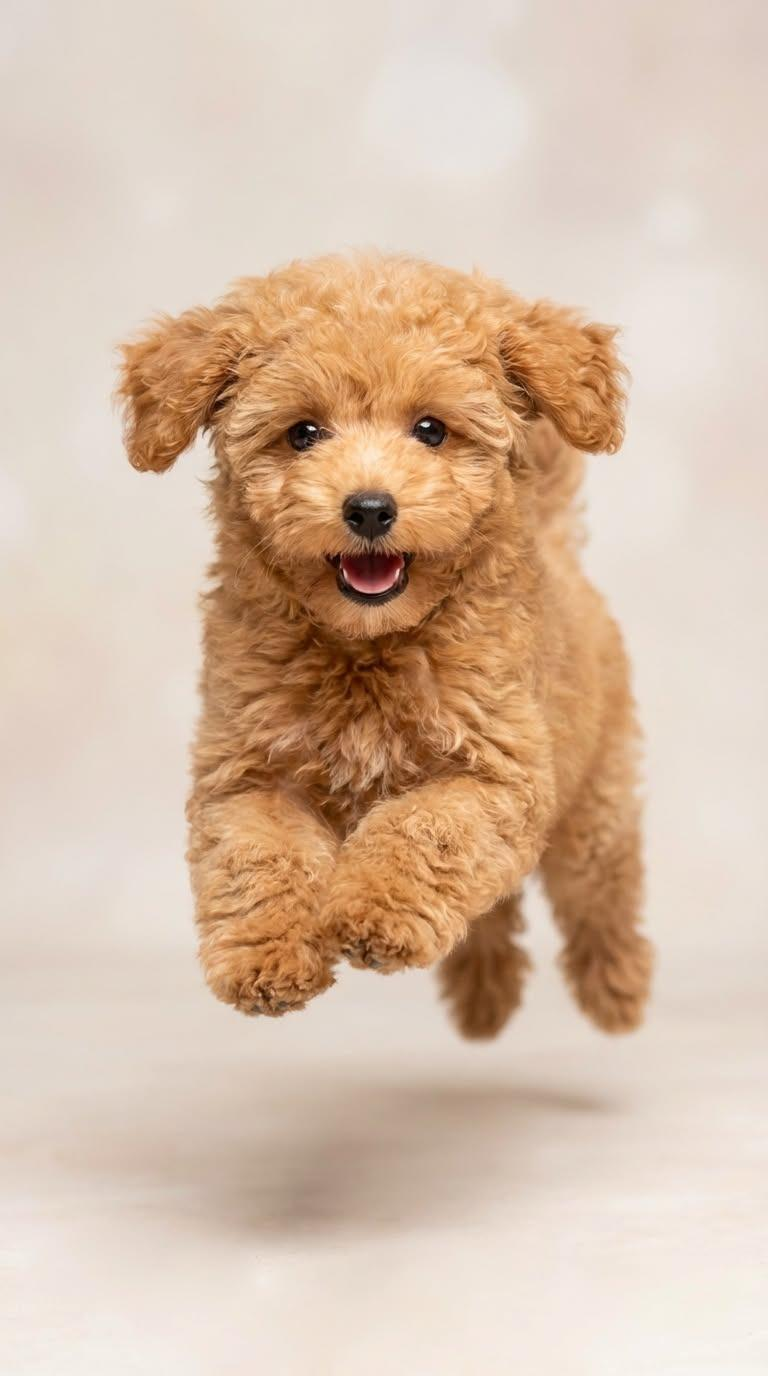puppy-dog: (110, 244, 662, 1047)
